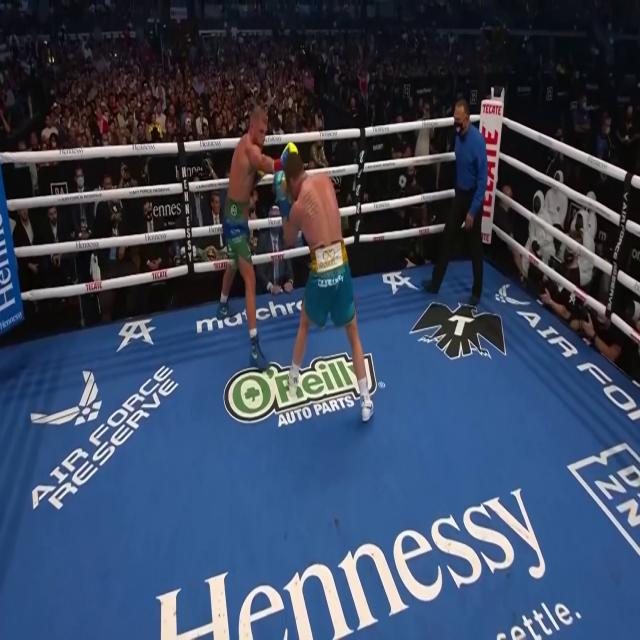boxer_1: (227, 106, 269, 203)
boxer_2: (285, 153, 344, 251)
gloves_1: (274, 143, 297, 173), (255, 154, 266, 183)
gloves_2: (275, 172, 288, 219)
